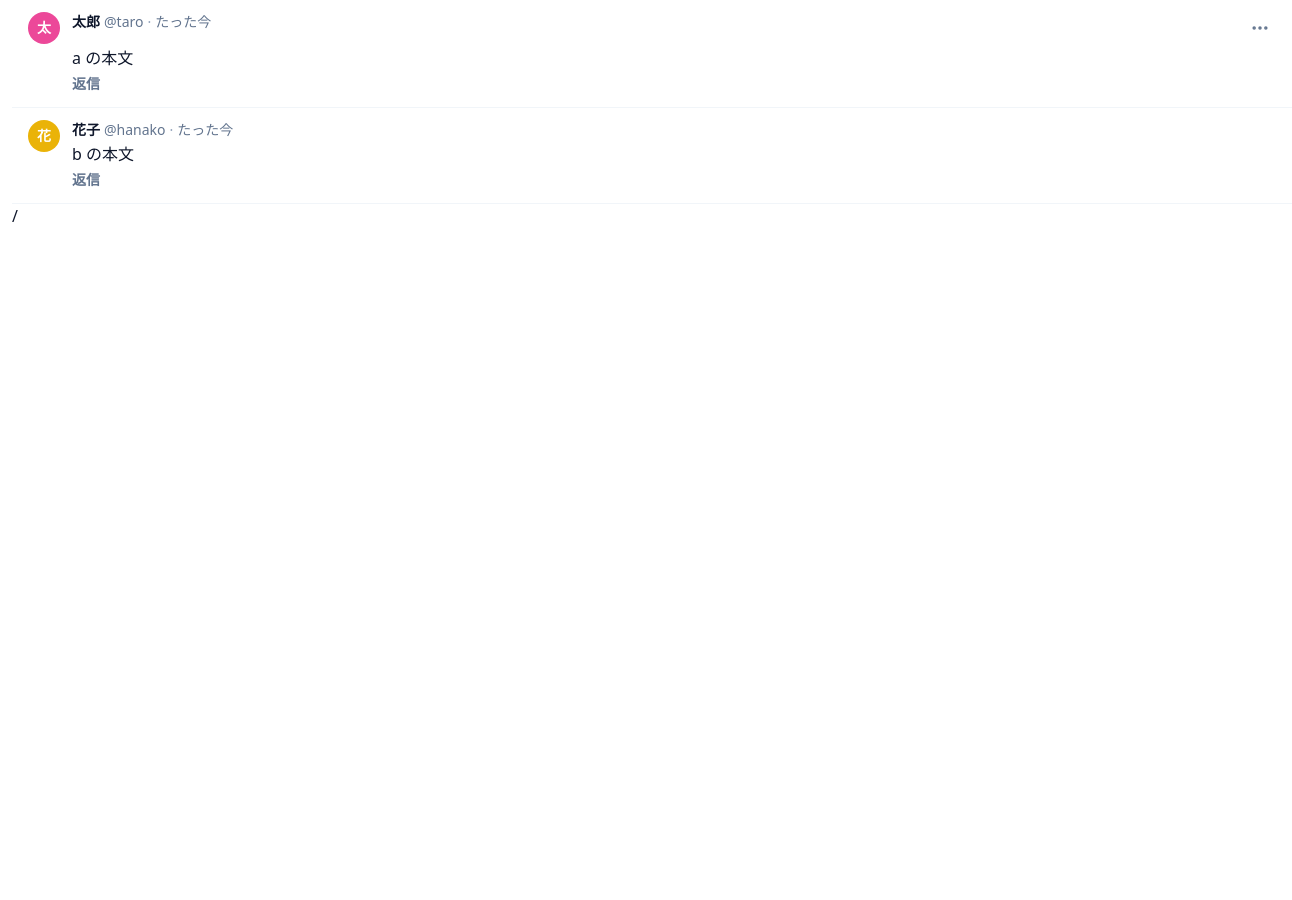
Scenario: CommentThread › 自分のコメントだけメニューから削除でき、削除したら取り直す
Click the button named "コメントのメニュー": (1260, 28) 1244,12 -> 1276,44
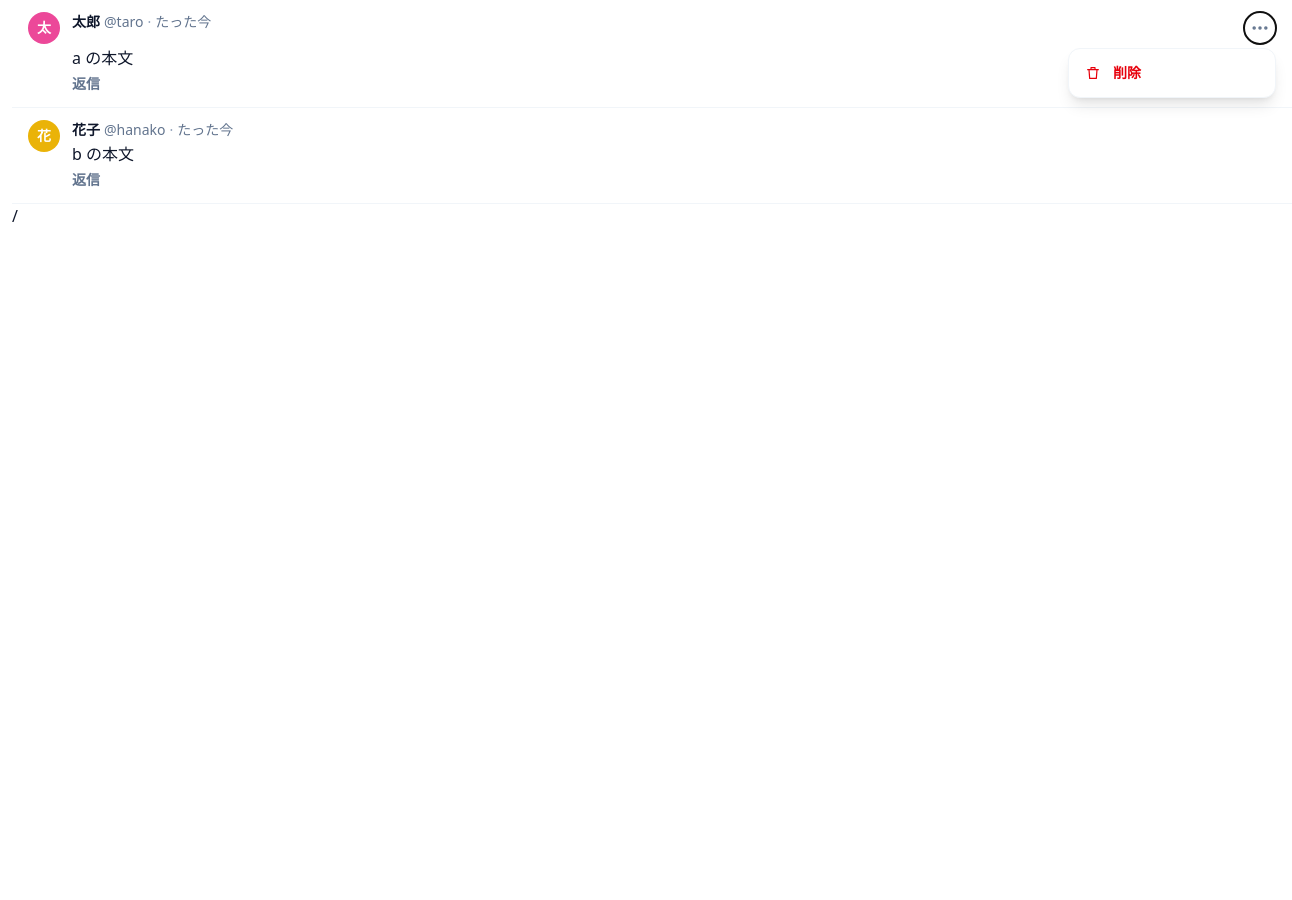
Click the button "削除": (1172, 73) 1069,53 -> 1275,93
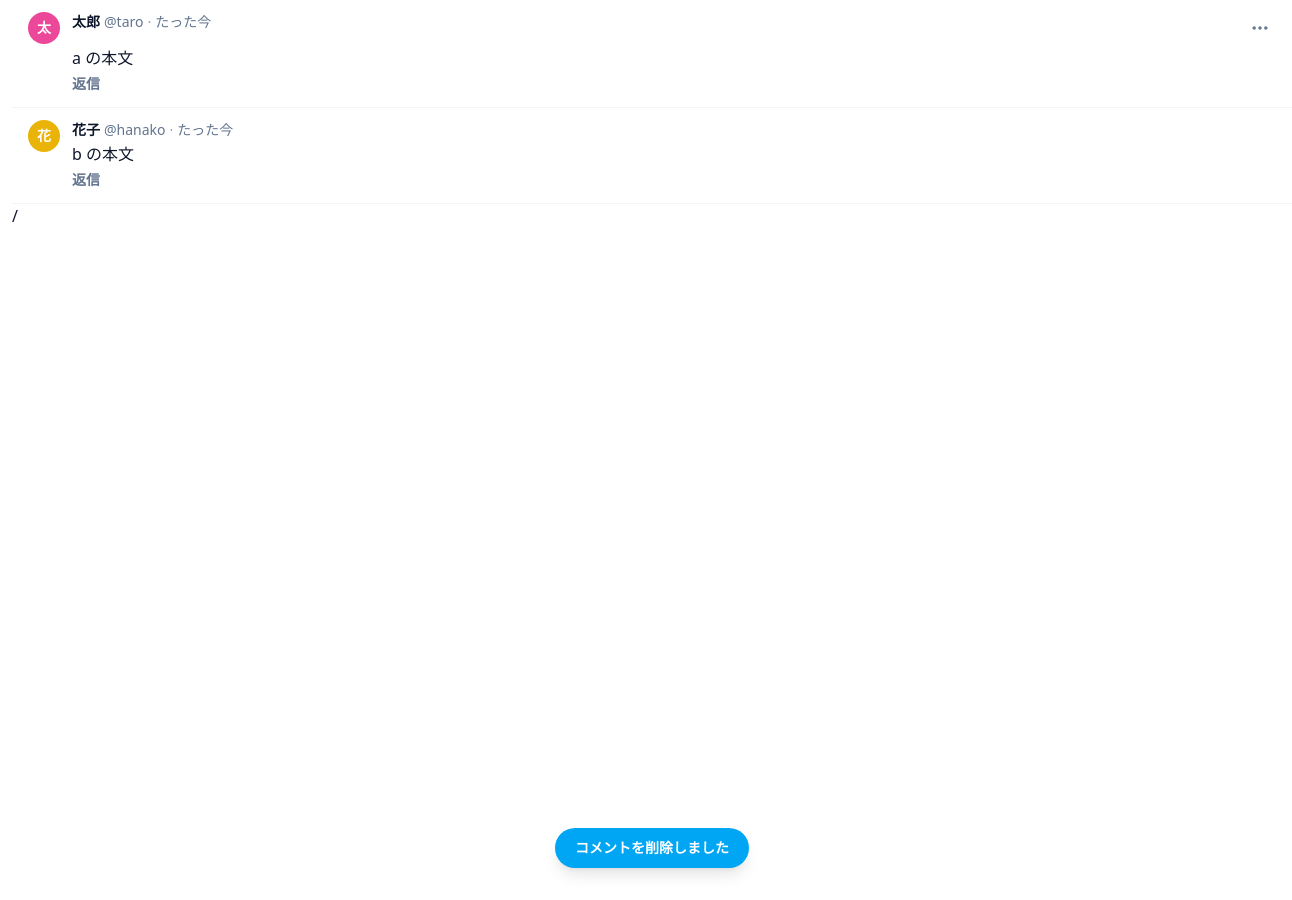
Check: the message reads "コメントを削除しました", box 575,838 -> 729,857
